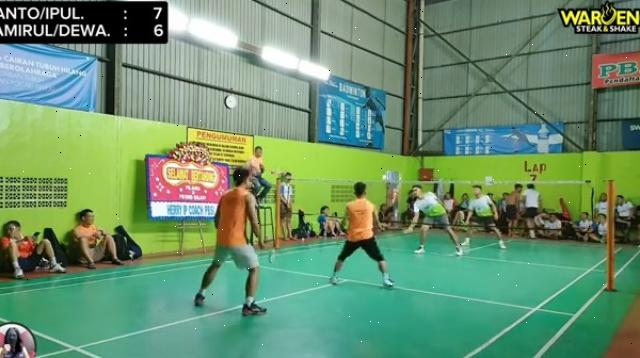Shuttlecock: (381, 172, 392, 182)
